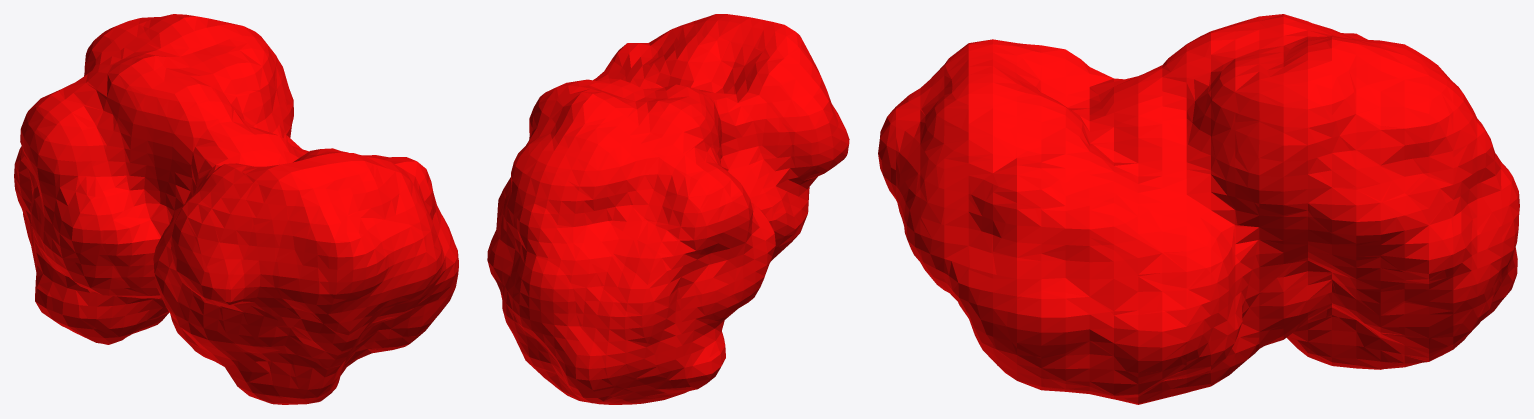
Rendered from galE_coarse.dae.
3 renders of one model, left to right at view 1: azimuth 30°, elevation 25°; view 2: azimuth 150°, elevation 25°; view 3: azimuth 270°, elevation 25°, orthographic. The views are drawn at different scales.
Visible parts, largest first — view 1: galE; view 2: galE; view 3: galE.
Part boxes in pixels (<box>): galE: <box>14,14,458,404</box>; galE: <box>487,14,849,404</box>; galE: <box>878,14,1519,404</box>.
Bounding box in the file's own units: 59.1 × 56.58 × 93.09.
